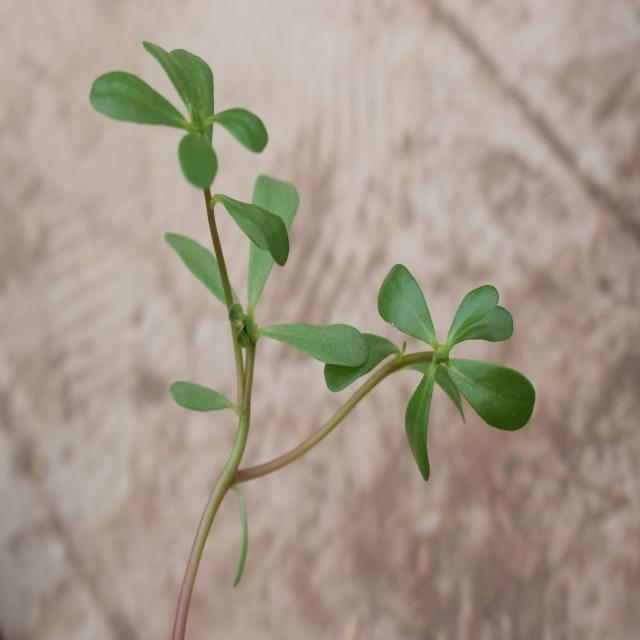purslane: (78, 24, 558, 508)
